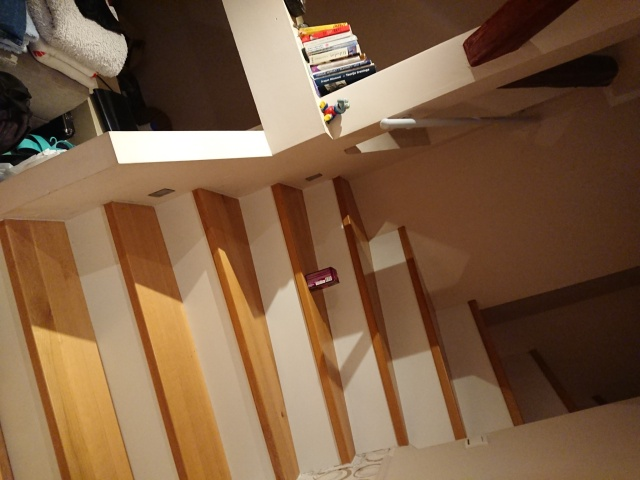Franck Black Currant Tea 60g: (302, 264, 342, 293)
